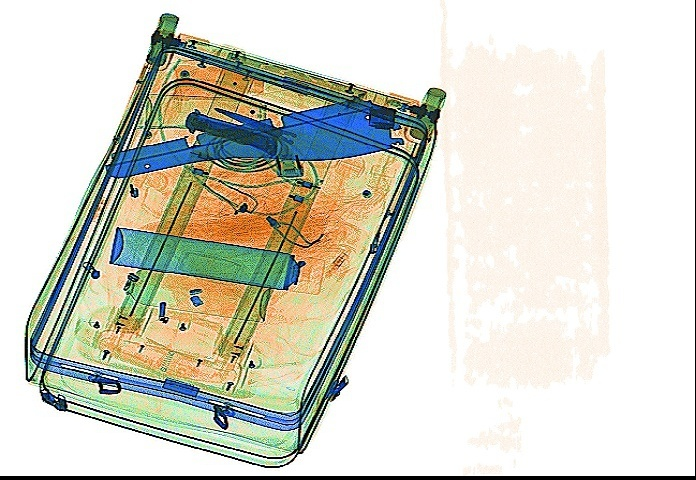knife: (180, 106, 278, 156)
pressure: (106, 224, 324, 296), (114, 266, 271, 324), (133, 90, 269, 132)
scissors: (209, 103, 346, 173)
